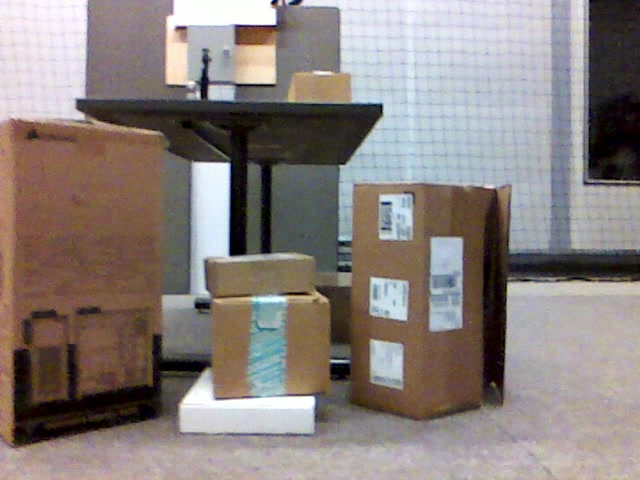box: (1, 118, 158, 445), (353, 182, 512, 422), (210, 293, 332, 401), (204, 253, 316, 295), (288, 70, 352, 101)
